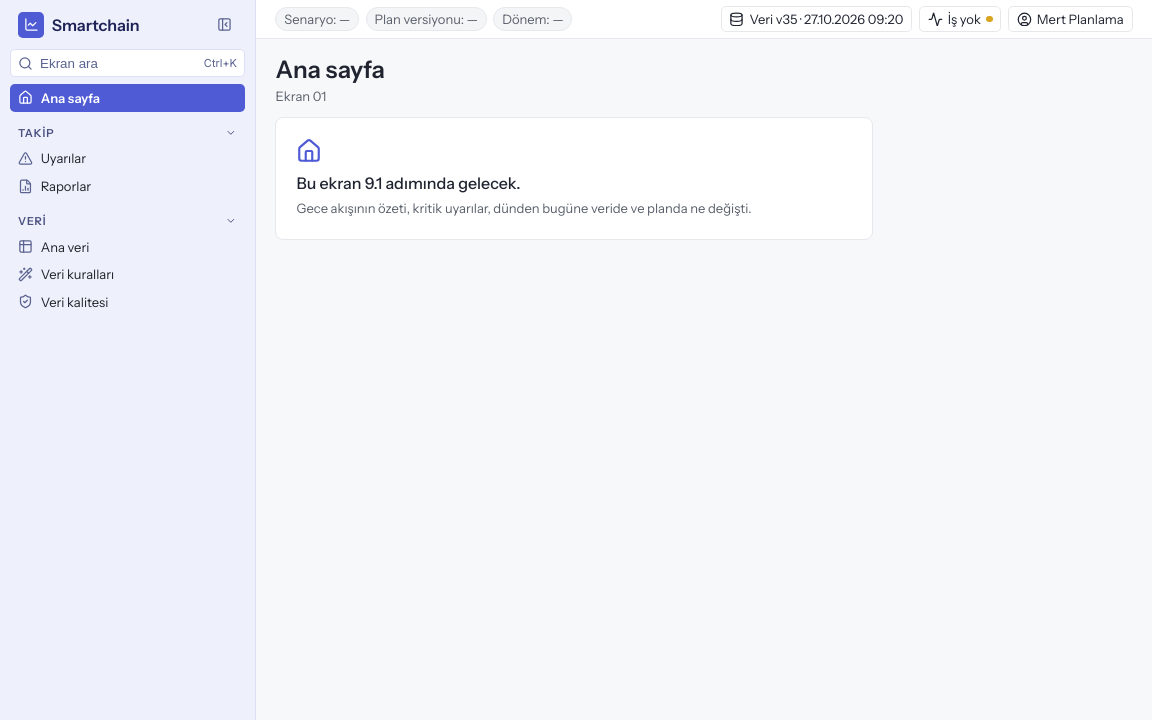
Test: menü role göre (K-100) › arama yalnız görünen ekranlarda
Type "veri" into the search field named "Ekran ara" at (118, 63), box [38,55,199,72]
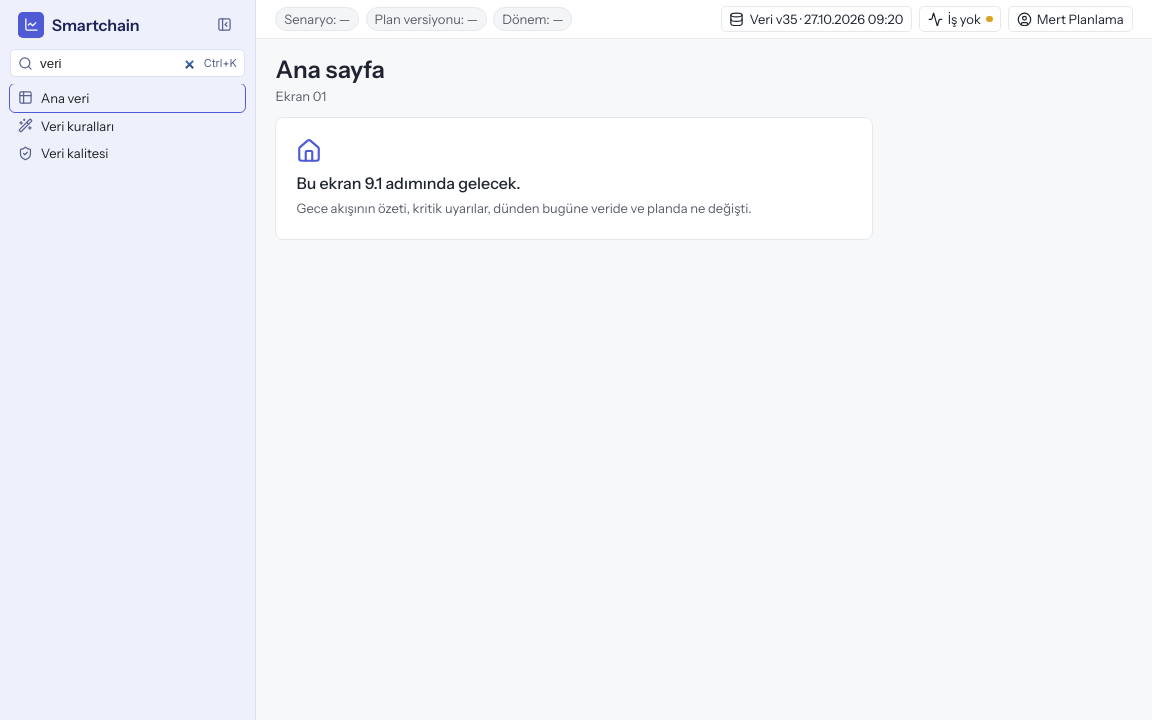
Expected: the options read "Ana veri", "Veri kuralları", "Veri kalitesi", in this order, [18,90,89,106]; [18,118,114,134]; [18,145,108,161]
